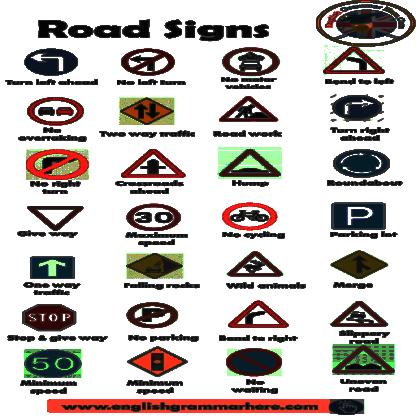No left turn: (118, 49, 178, 78)
